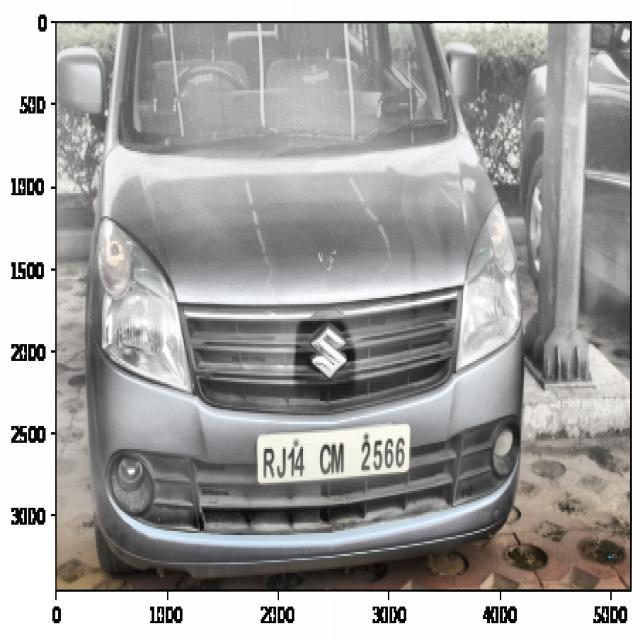license_plate: (257, 429, 410, 486)
